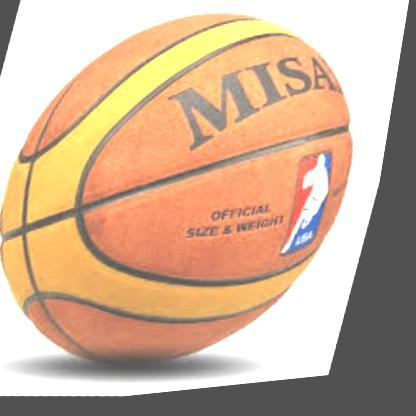basketball: (0, 0, 399, 396)
